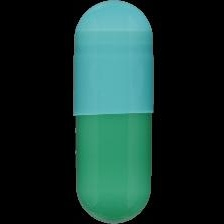42292-018: (0, 0, 224, 224)
